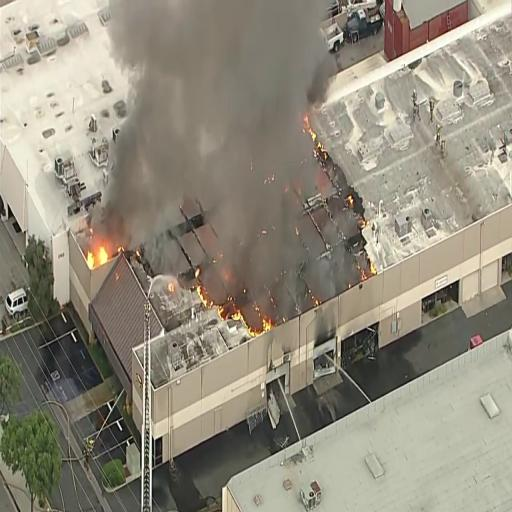smoke: (167, 0, 277, 240)
